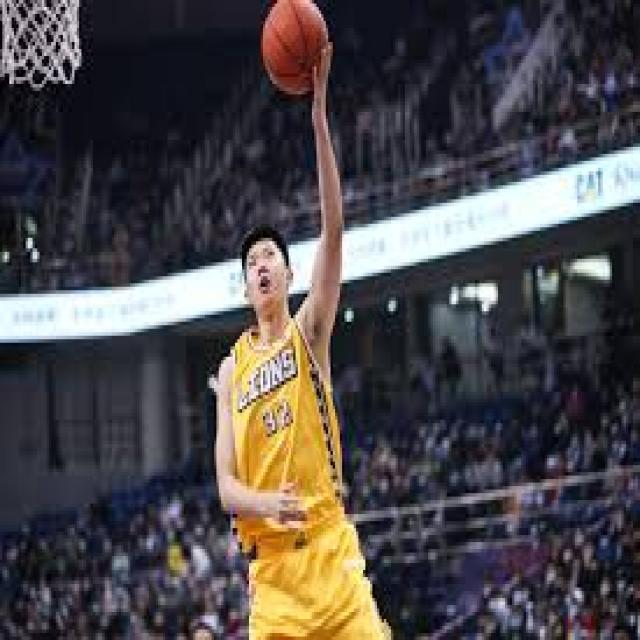rim: (260, 4, 328, 94)
